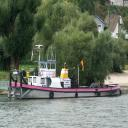tugboat: (7, 45, 124, 104)
